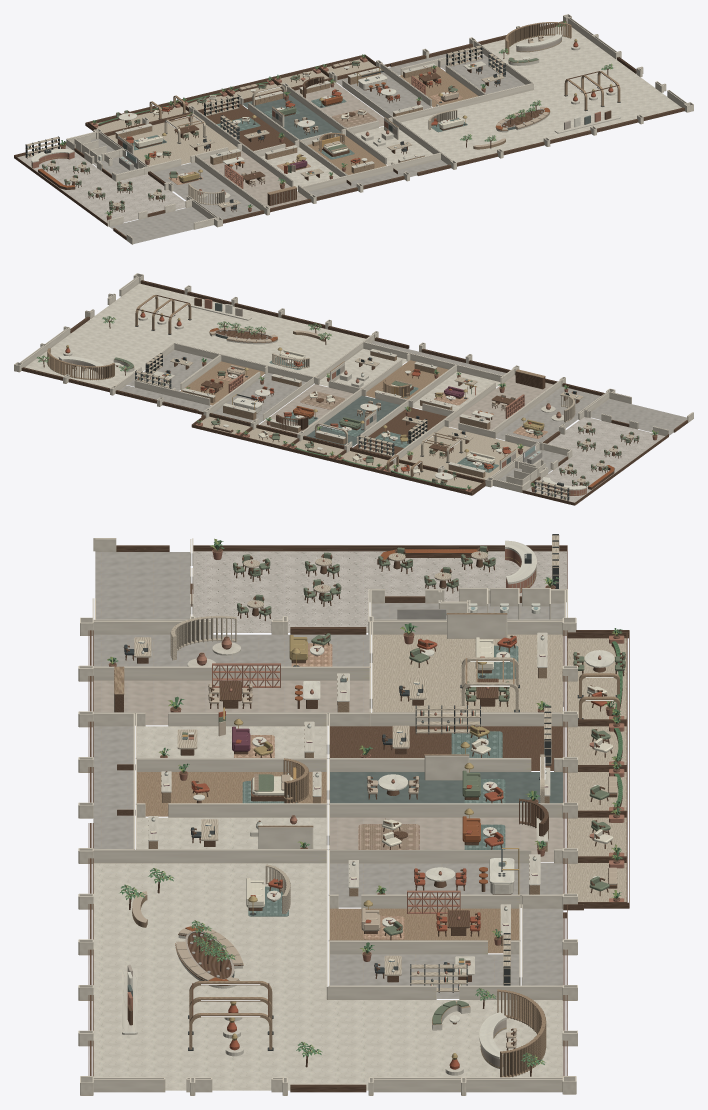
Rendered from arq-design.glb.
3 renders of one model, top to bottom at view 1: azimuth 30°, elevation 25°; view 2: azimuth 150°, elevation 25°; view 3: azimuth 270°, elevation 25°, orthographic. The views are drawn at different scales.
Parts seen in each view (by area): view 1: ARQ_Arquitetura, ARQ_salon_interior, ARQ_14_interior, ARQ_01_interior, ARQ_12_interior, ARQ_13_interior, ARQ_11_interior, ARQ_09_interior, ARQ_08_interior, ARQ_05_interior, ARQ_04_interior, ARQ_02_interior (+12 smaller); view 2: ARQ_Arquitetura, ARQ_salon_interior, ARQ_14_interior, ARQ_12_interior, ARQ_01_interior, ARQ_11_interior, ARQ_13_interior, ARQ_04_interior, ARQ_08_interior, ARQ_09_interior, ARQ_05_interior, ARQ_02_interior (+13 smaller); view 3: ARQ_Arquitetura, ARQ_salon_interior, ARQ_14_interior, ARQ_12_interior, ARQ_01_interior, ARQ_11_interior, ARQ_13_interior, ARQ_09_interior, ARQ_08_interior, ARQ_05_interior, ARQ_04_interior, ARQ_03_interior (+13 smaller).
Boxes of the visible parts, x1,y1,x2,y2 form: ARQ_Arquitetura: [14, 14, 693, 244]; ARQ_salon_interior: [401, 58, 681, 162]; ARQ_14_interior: [17, 136, 185, 223]; ARQ_01_interior: [482, 21, 614, 79]; ARQ_12_interior: [108, 112, 237, 166]; ARQ_13_interior: [152, 162, 260, 219]; ARQ_11_interior: [203, 148, 307, 208]; ARQ_09_interior: [202, 94, 294, 150]; ARQ_08_interior: [243, 85, 341, 139]; ARQ_05_interior: [295, 76, 383, 128]; ARQ_04_interior: [337, 67, 431, 116]; ARQ_02_interior: [441, 45, 524, 93]; ARQ_Arquitetura: [14, 273, 693, 505]; ARQ_salon_interior: [69, 283, 365, 376]; ARQ_14_interior: [526, 417, 664, 502]; ARQ_12_interior: [400, 426, 529, 479]; ARQ_01_interior: [25, 335, 154, 388]; ARQ_11_interior: [449, 369, 553, 430]; ARQ_13_interior: [496, 385, 600, 442]; ARQ_04_interior: [213, 373, 306, 423]; ARQ_08_interior: [306, 395, 400, 446]; ARQ_09_interior: [353, 406, 446, 456]; ARQ_05_interior: [259, 384, 353, 433]; ARQ_02_interior: [127, 350, 212, 390]; ARQ_Arquitetura: [78, 538, 629, 1095]; ARQ_salon_interior: [93, 863, 421, 1090]; ARQ_14_interior: [193, 534, 566, 632]; ARQ_12_interior: [373, 613, 563, 712]; ARQ_01_interior: [374, 988, 562, 1077]; ARQ_11_interior: [93, 663, 369, 725]; ARQ_13_interior: [93, 615, 369, 666]; ARQ_09_interior: [330, 705, 562, 770]; ARQ_08_interior: [330, 754, 562, 803]; ARQ_05_interior: [330, 798, 562, 862]; ARQ_04_interior: [330, 848, 562, 907]; ARQ_03_interior: [330, 890, 519, 953].
Bounding box in the file's own units: 984 × 30.25 × 421.
2 materials, 1 textured.
